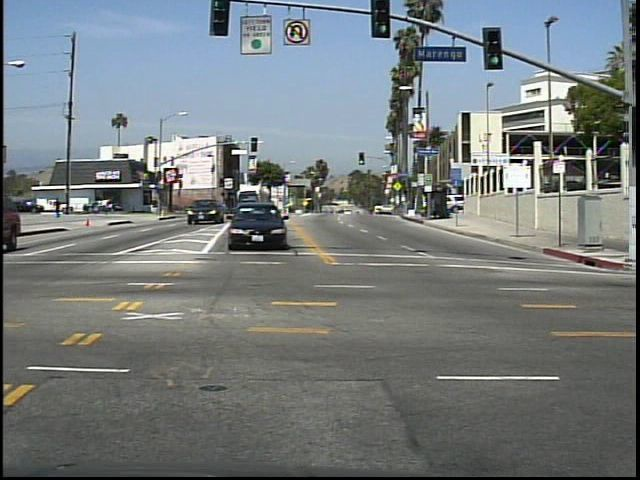person: (53, 195, 65, 220)
